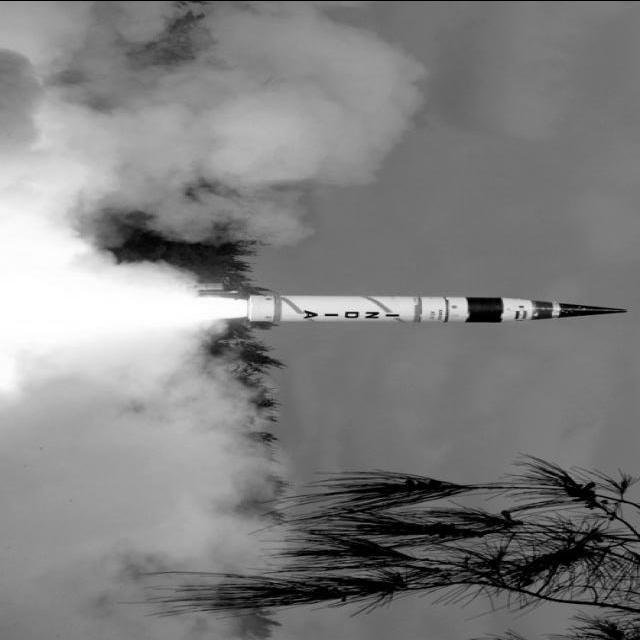missile: (221, 290, 640, 329)
